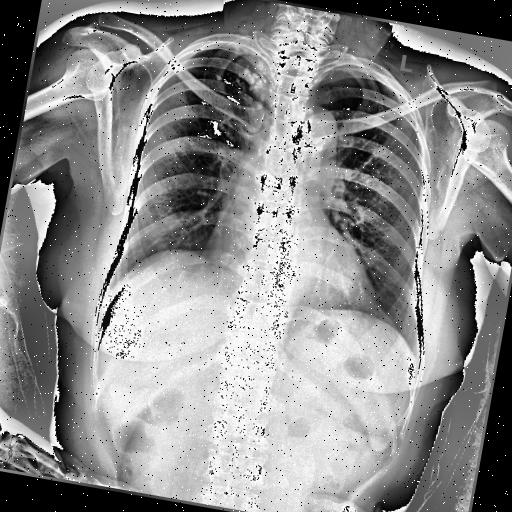0- Aortic enlargement: (274, 100, 346, 166), (292, 105, 340, 162)
11- Pleural thickening: (210, 60, 271, 110), (226, 40, 264, 58)
13- Pulmonary fibrosis: (212, 60, 272, 104)
2- Calcification: (210, 60, 271, 110), (212, 60, 272, 110), (212, 60, 272, 104)
3- Cardiomegaly: (196, 222, 390, 318), (202, 226, 384, 322), (198, 239, 386, 321)
8- Nodule-Mass: (212, 60, 272, 104)
